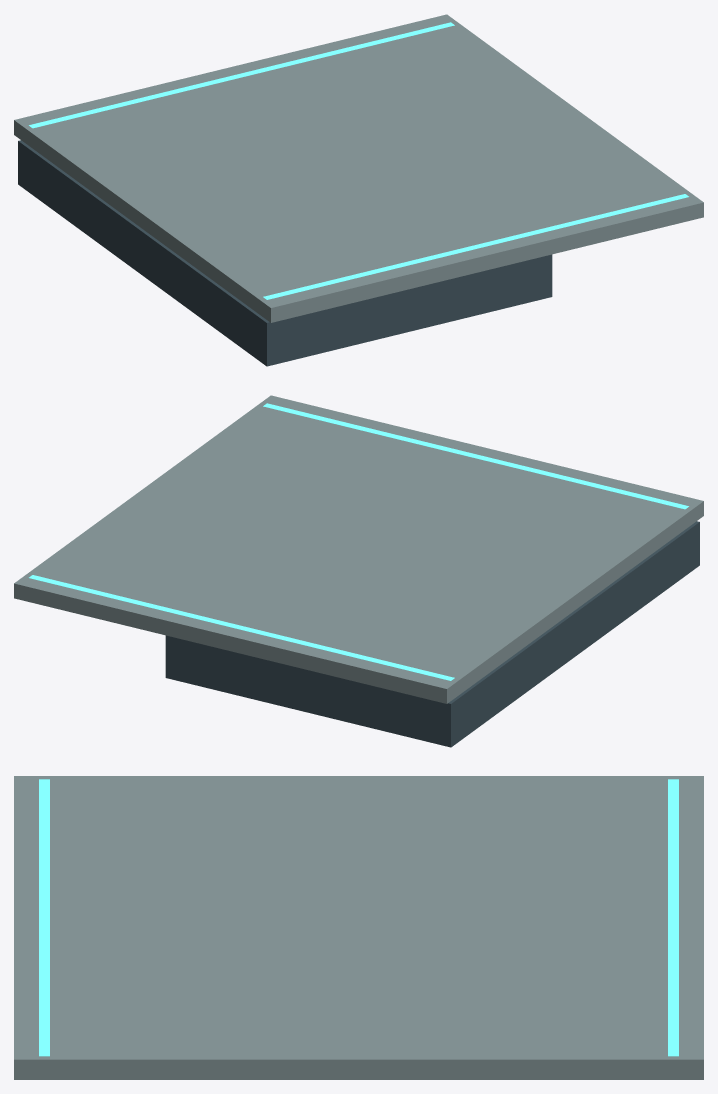
File: vault-r2-threshold.glb
3 views of the same model, one above another, from view 1: azimuth 30°, elevation 25°; view 2: azimuth 150°, elevation 25°; view 3: azimuth 270°, elevation 25° (orthographic). The views are drawn at different scales.
Visible parts, largest first — view 1: R2 transition | top tread, R2 transition | west support, R2 transition | flush inset marker, R2 transition | flush inset marker.001; view 2: R2 transition | top tread, R2 transition | west support, R2 transition | flush inset marker.001, R2 transition | flush inset marker; view 3: R2 transition | top tread, R2 transition | flush inset marker, R2 transition | flush inset marker.001.
Part boxes in pixels (left/top/right/bottom): R2 transition | top tread: left=14, top=14, right=703, bottom=322; R2 transition | west support: left=18, top=140, right=552, bottom=366; R2 transition | flush inset marker: left=263, top=194, right=688, bottom=299; R2 transition | flush inset marker.001: left=29, top=22, right=454, bottom=128; R2 transition | top tread: left=14, top=395, right=703, bottom=703; R2 transition | west support: left=165, top=521, right=699, bottom=747; R2 transition | flush inset marker.001: left=29, top=575, right=454, bottom=680; R2 transition | flush inset marker: left=263, top=403, right=688, bottom=509; R2 transition | top tread: left=14, top=776, right=703, bottom=1079; R2 transition | flush inset marker: left=39, top=779, right=49, bottom=1056; R2 transition | flush inset marker.001: left=668, top=779, right=678, bottom=1056.
Size of the model in its own units: 2.43 by 0.331 by 2.5.
